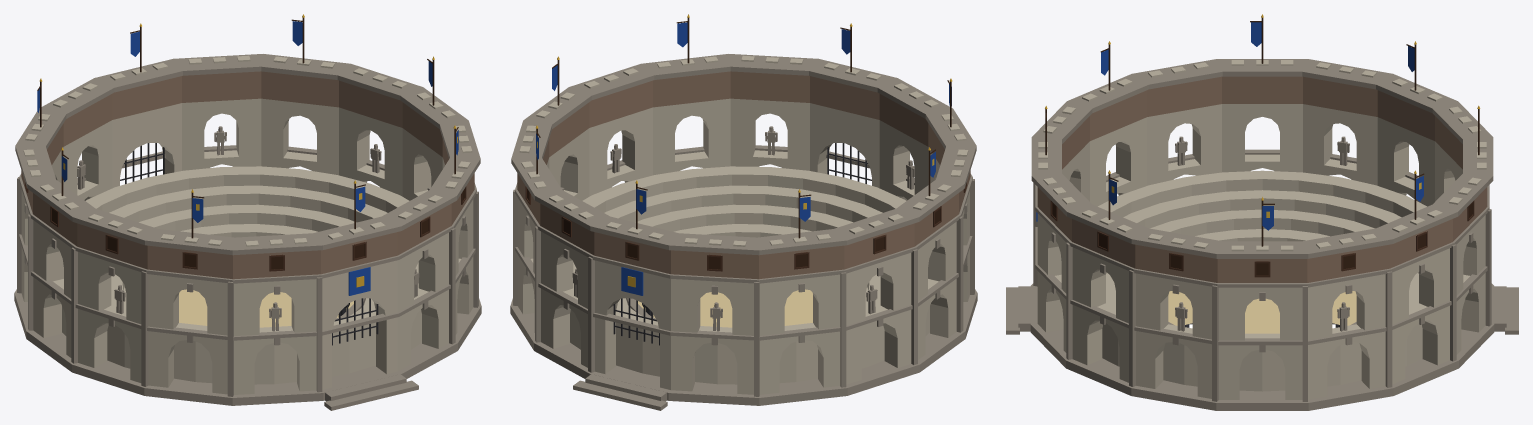
The model's file is arena.fbx.
3 views of the same model, side by side, from view 1: azimuth 30°, elevation 25°; view 2: azimuth 150°, elevation 25°; view 3: azimuth 270°, elevation 25° (orthographic).
Visible parts, largest first — view 1: arena; view 2: arena; view 3: arena.
Boxes of the visible parts, x1,y1,x2,y2 form: arena: (14, 14, 481, 410); arena: (510, 14, 977, 410); arena: (1006, 14, 1518, 410).
Bounding box in the file's own units: 26.29 × 13 × 29.1.
